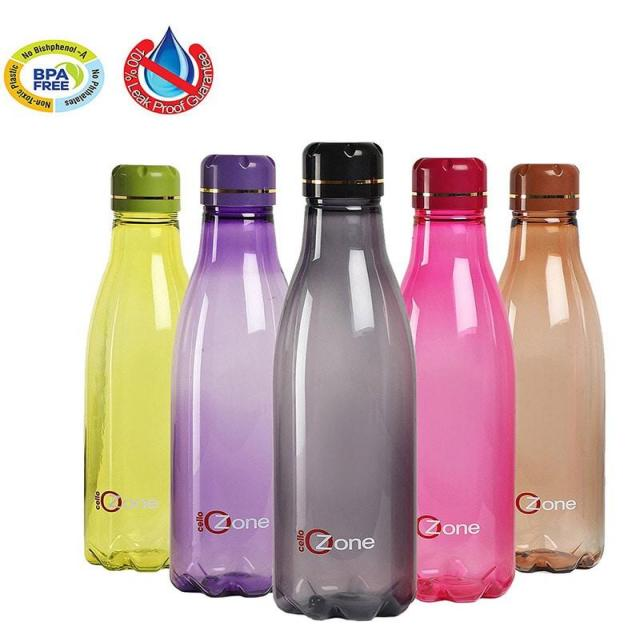plastic_bottle: (304, 163, 420, 602), (417, 168, 512, 589), (198, 164, 292, 579), (99, 174, 187, 569), (518, 175, 602, 557)
